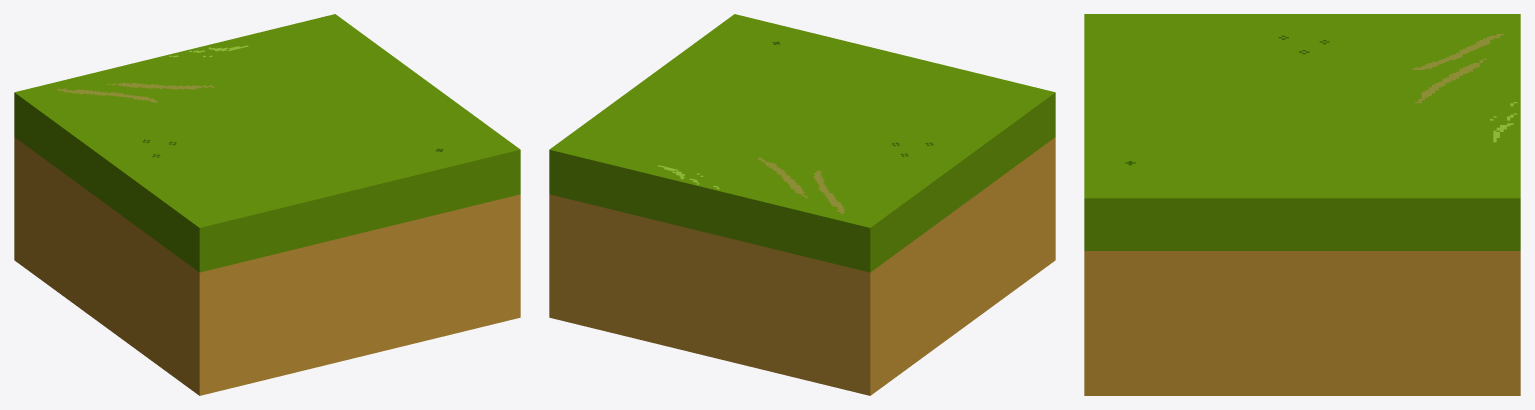
3 views of the same model, side by side, from view 1: azimuth 30°, elevation 25°; view 2: azimuth 150°, elevation 25°; view 3: azimuth 270°, elevation 25° (orthographic). The views are drawn at different scales.
Visible parts, largest first — view 1: 2J; view 2: 2J; view 3: 2J.
Boxes of the visible parts, x1,y1,x2,y2 form: 2J: (14, 14, 520, 395); 2J: (549, 14, 1055, 395); 2J: (1084, 14, 1520, 395).
Size of the model in its own units: 12.8 by 6.4 by 12.8.
1 material, 1 textured.
